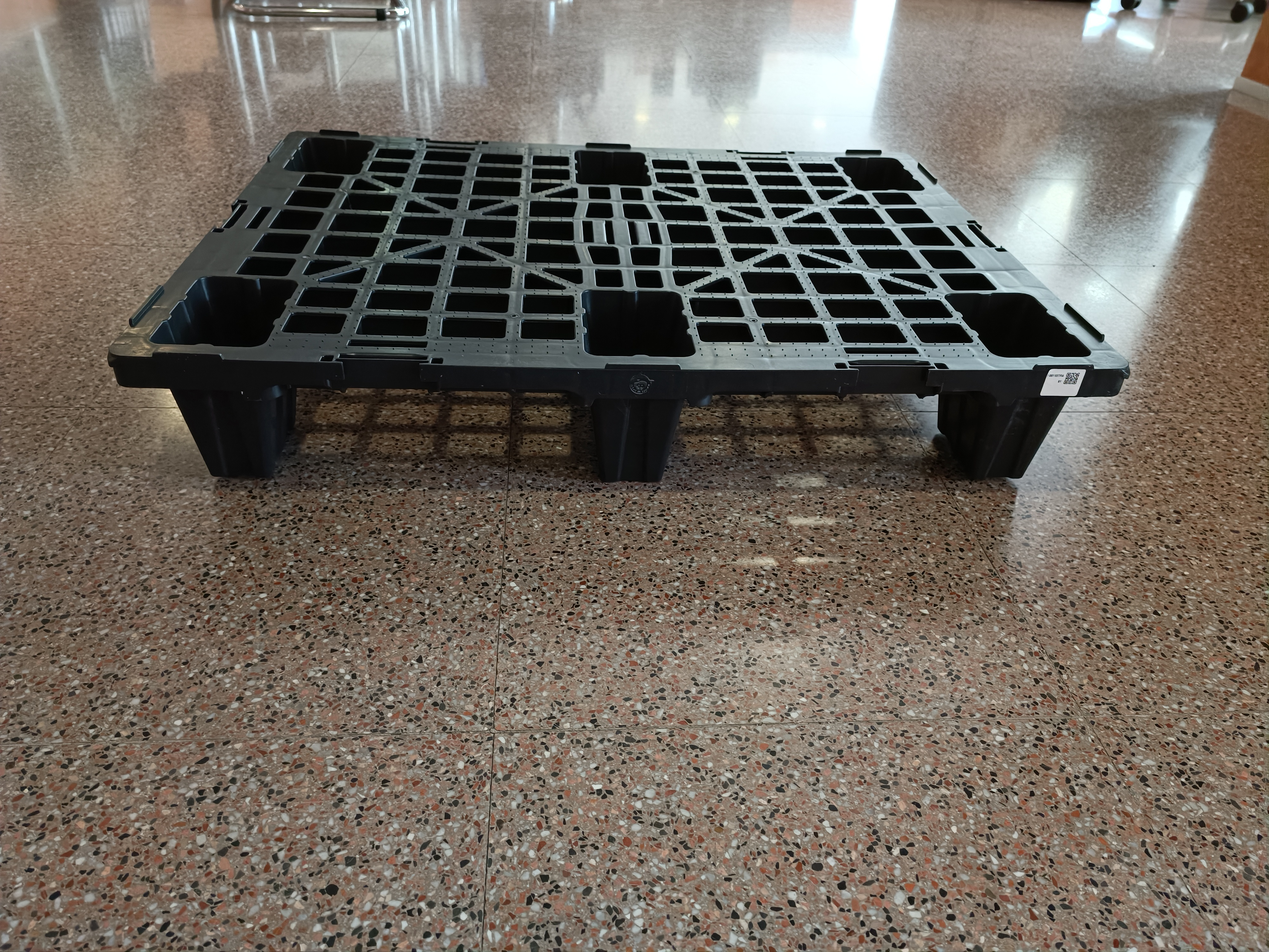block: (123, 356, 280, 477), (963, 370, 1095, 482), (576, 367, 689, 481)
front: (119, 353, 1138, 489)
hole pallet: (260, 370, 579, 466), (662, 390, 995, 477)
